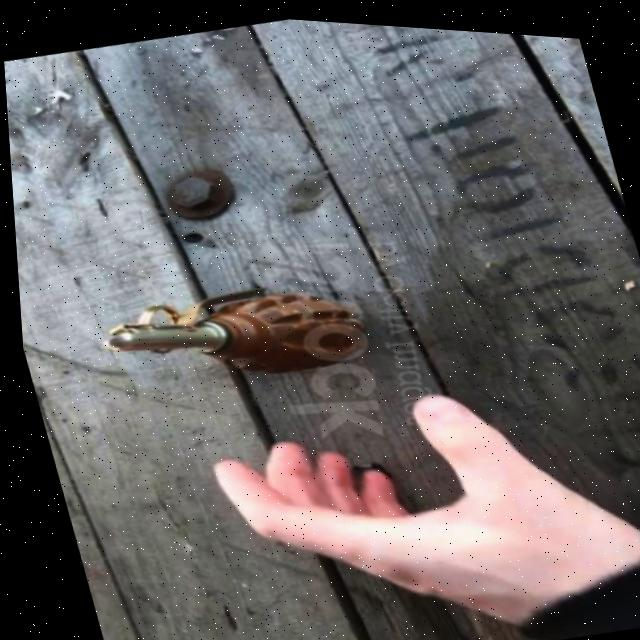grenade: (82, 242, 375, 414)
